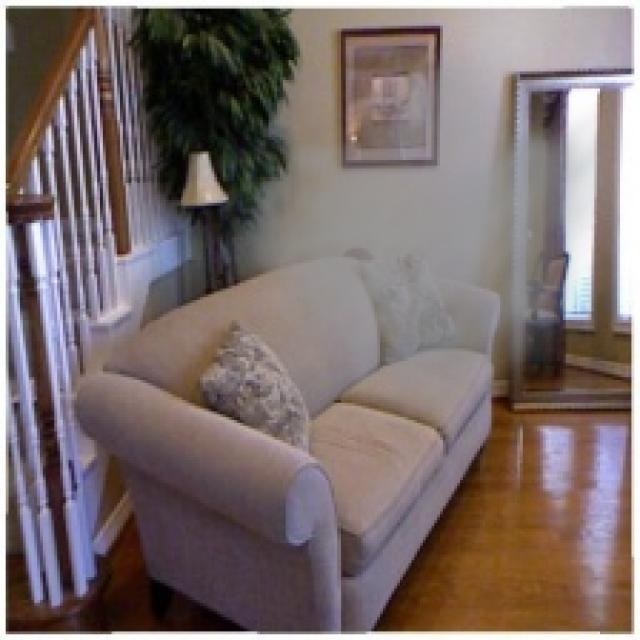smoke: (206, 34, 603, 446)
